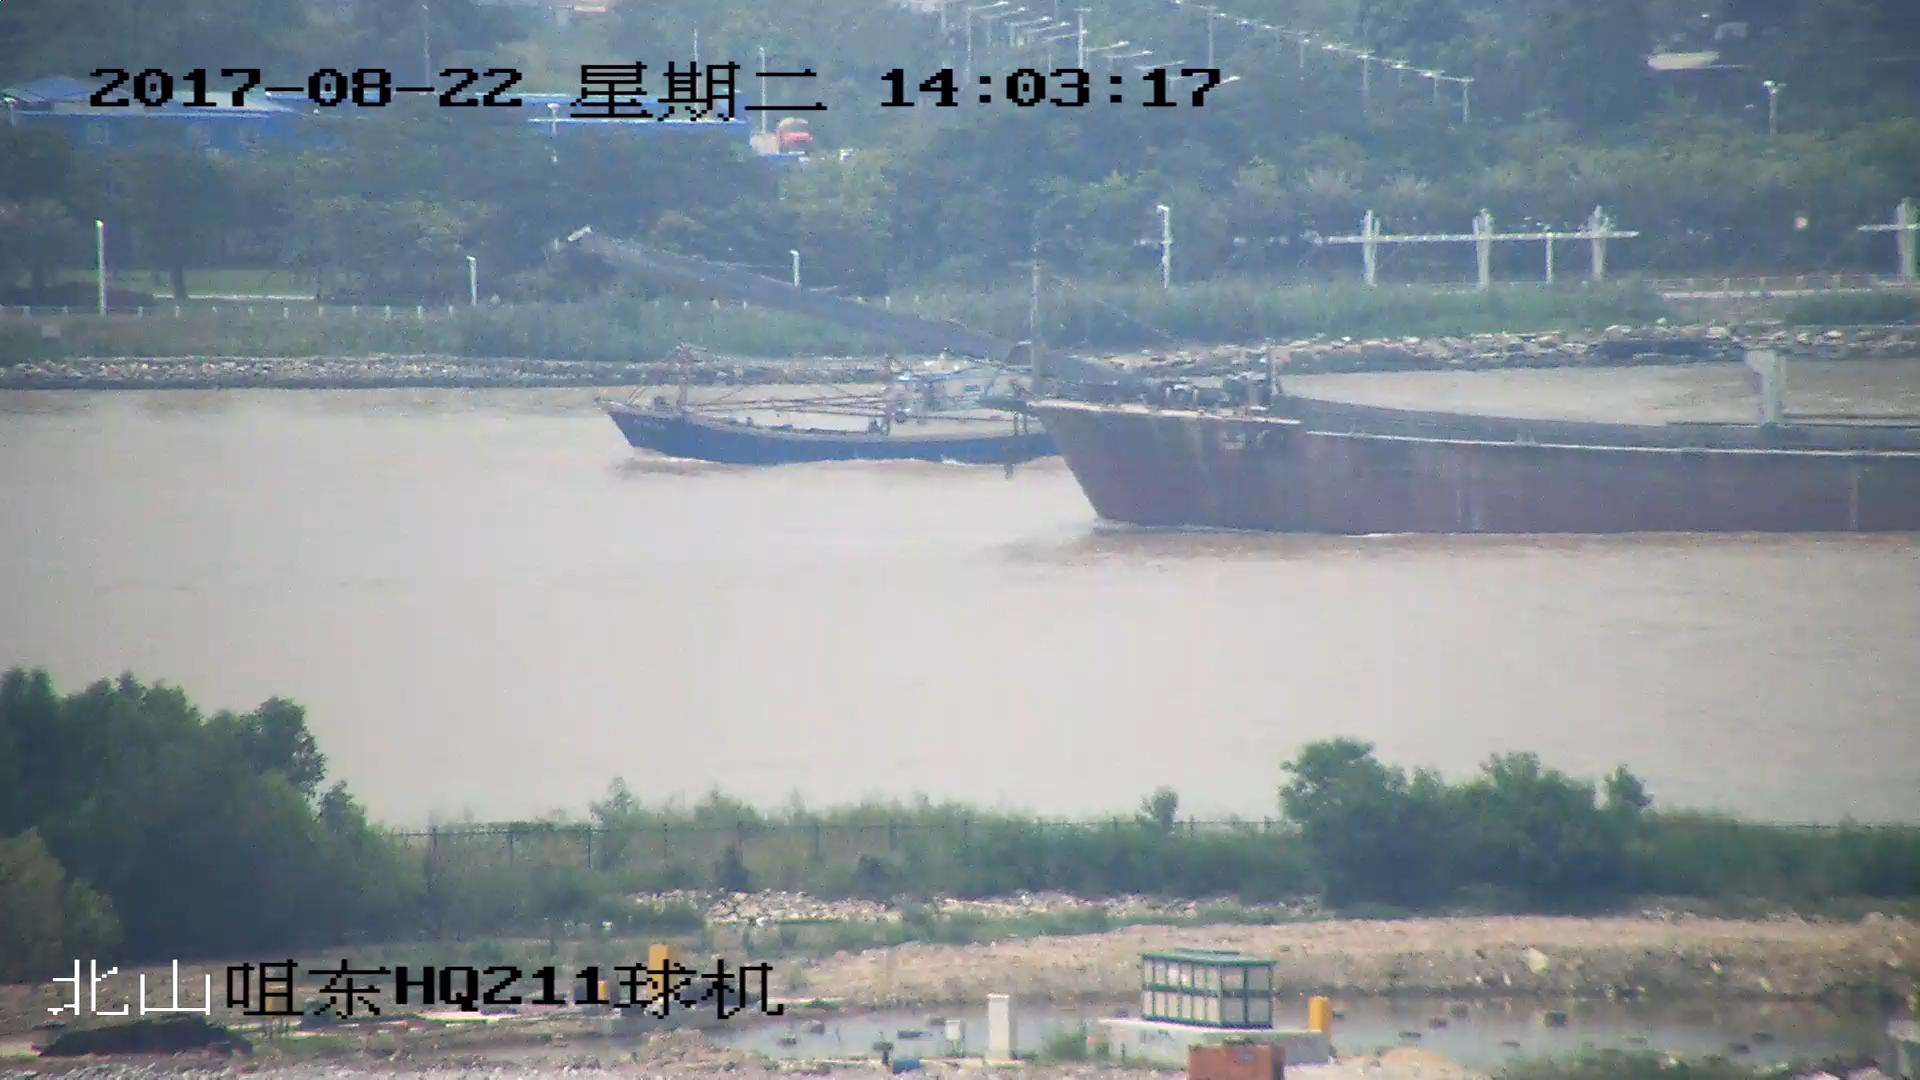bulk cargo carrier: (576, 233, 1920, 537)
fishing boat: (604, 348, 1061, 467)
